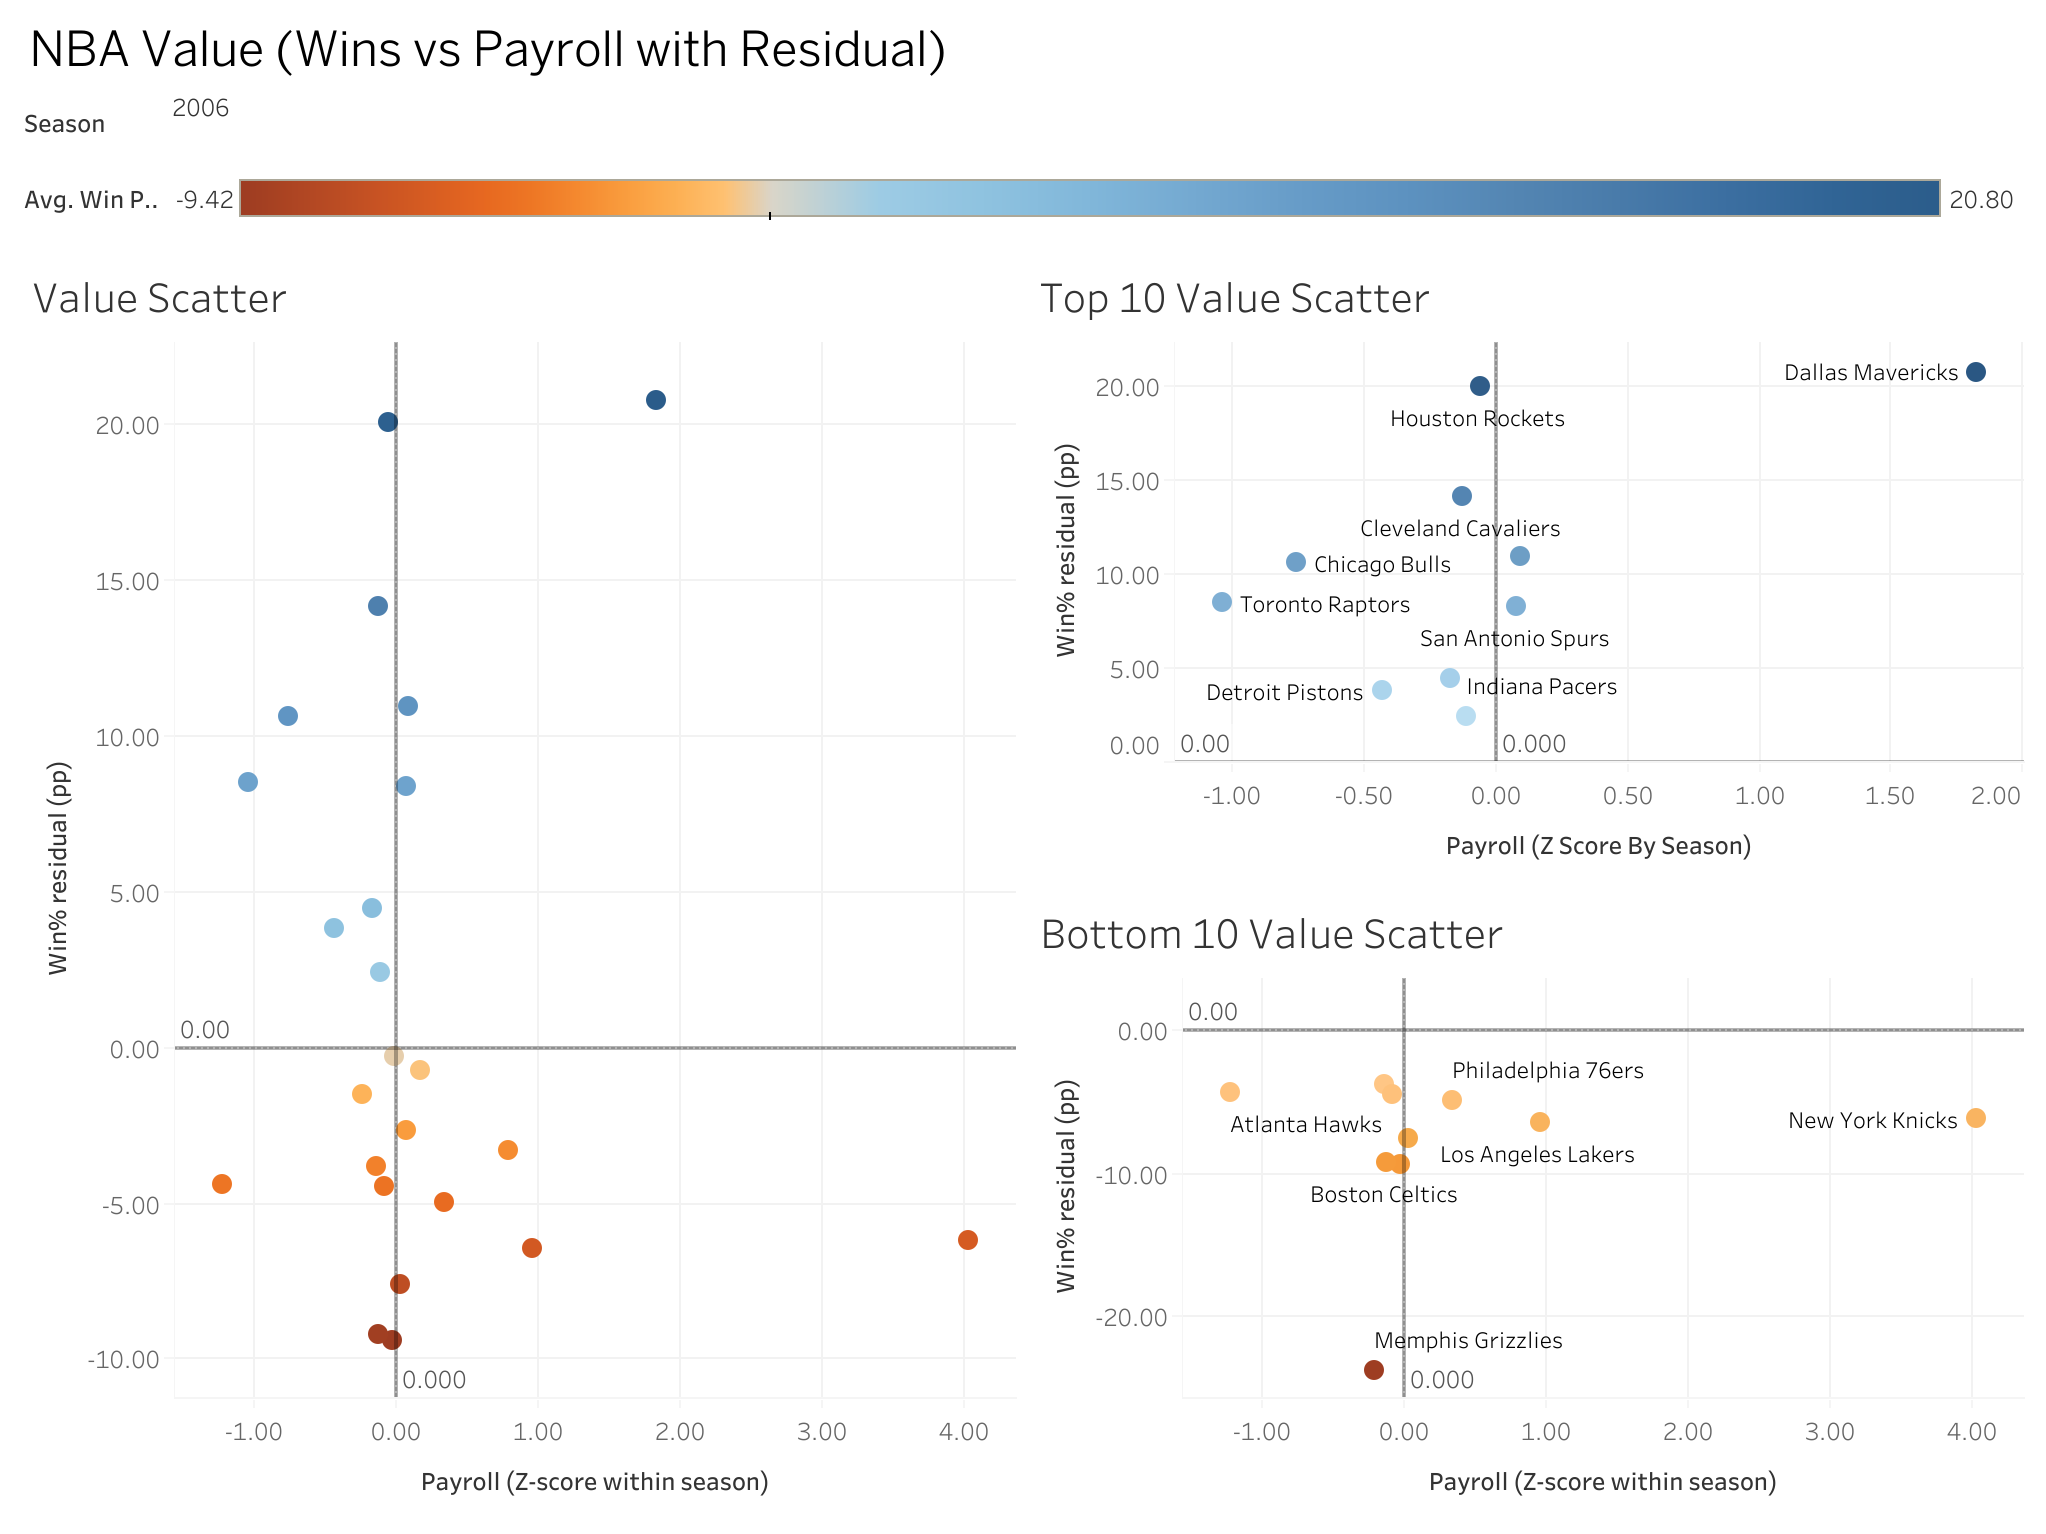

This screenshot's page, from the dashboard's own definition file:
{"tool":"tableau","page":{"name":"NBA Value: (Wins vs Payroll with Residual)","canvas":[1024,768],"ordinal":1},"visuals":[{"type":"title","box":[8,8,1008,32]},{"type":"filter","title":"Value Scatter","param":"[federated.0p3zptp0jwz2pa1blsn391djmghs].[none:Calculation_2166202980466699:ok]","box":[8,40,1008,42.2]},{"type":"legend","title":"Value Scatter","param":"[federated.0p3zptp0jwz2pa1blsn391djmghs].[avg:win_pct_residual:qk]","box":[8,82.2,1008,42.2]},{"type":"worksheet","title":"Value Scatter","mark":"Circle","rows":["win_pct_residual"],"cols":["payroll_z_by_season"],"box":[8,124.3,503.9,635.7]},{"type":"worksheet","title":"Top 10 Value Scatter","mark":"Circle","rows":["win_pct_residual"],"cols":["payroll_z_by_season"],"box":[511.9,124.3,504.1,317.8]},{"type":"worksheet","title":"Bottom 10 Value Scatter","mark":"Circle","rows":["win_pct_residual"],"cols":["payroll_z_by_season"],"box":[511.9,442.1,504.1,317.9]}]}

Visuals, with their boxes in screenshot pixels (x1, y1, x2, y2), scaled from the page's 1024x768 canvas onto the 2046x1534 screenshot:
title: Rect(16, 16, 2030, 80)
"Value Scatter" filter: Rect(16, 80, 2030, 164)
"Value Scatter" legend: Rect(16, 164, 2030, 248)
"Value Scatter" worksheet (Circle marks): Rect(16, 248, 1023, 1518)
"Top 10 Value Scatter" worksheet (Circle marks): Rect(1023, 248, 2030, 883)
"Bottom 10 Value Scatter" worksheet (Circle marks): Rect(1023, 883, 2030, 1518)
